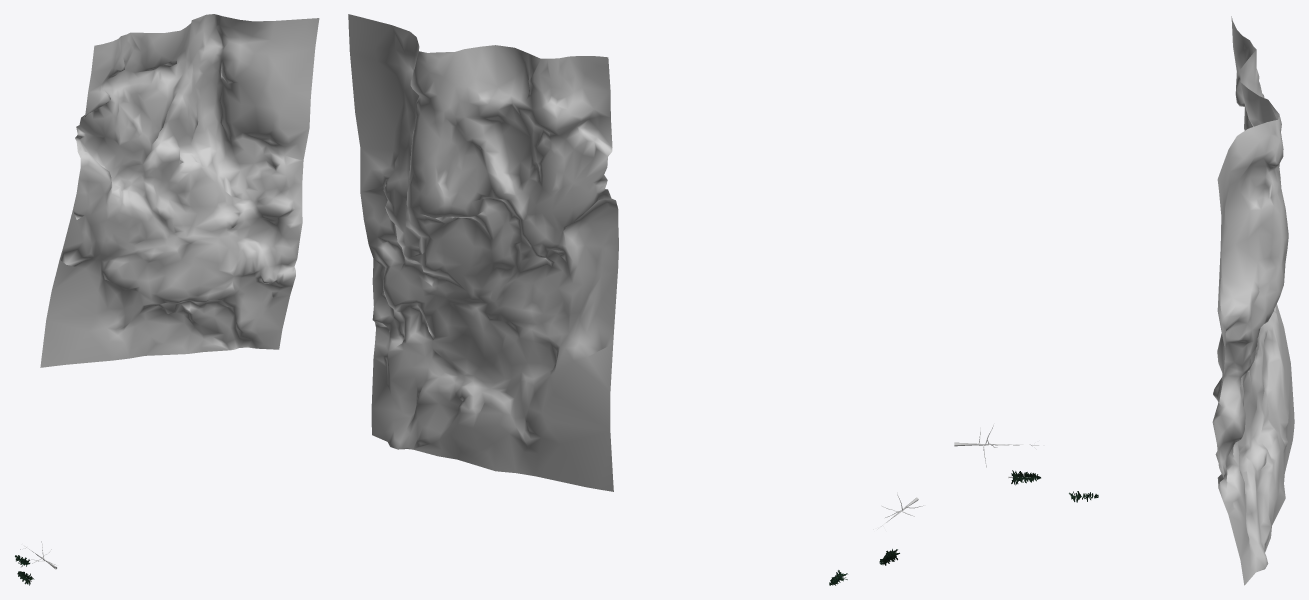
File: Small-tree2obj.obj
3 views of the same model, side by side, from view 1: azimuth 30°, elevation 25°; view 2: azimuth 150°, elevation 25°; view 3: azimuth 270°, elevation 25° (orthographic). The views are drawn at different scales.
Visible parts, largest first — view 1: Mesh_0160.rip; view 2: Mesh_0160.rip; view 3: Mesh_0160.rip.
Part boxes in pixels (x1,y1,x2,y2): Mesh_0160.rip: (40, 14, 319, 367); Mesh_0160.rip: (348, 14, 618, 491); Mesh_0160.rip: (1212, 16, 1294, 585).
Size of the model in its own units: 105 by 117 by 63.04.
